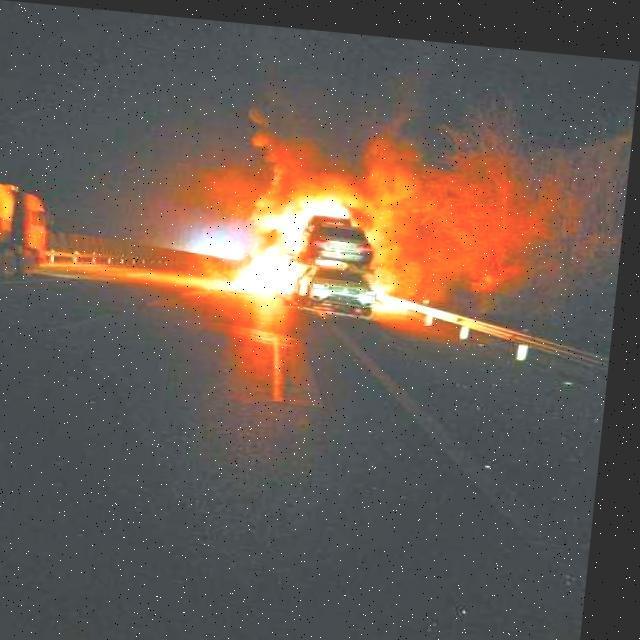Fire: (236, 182, 404, 314)
